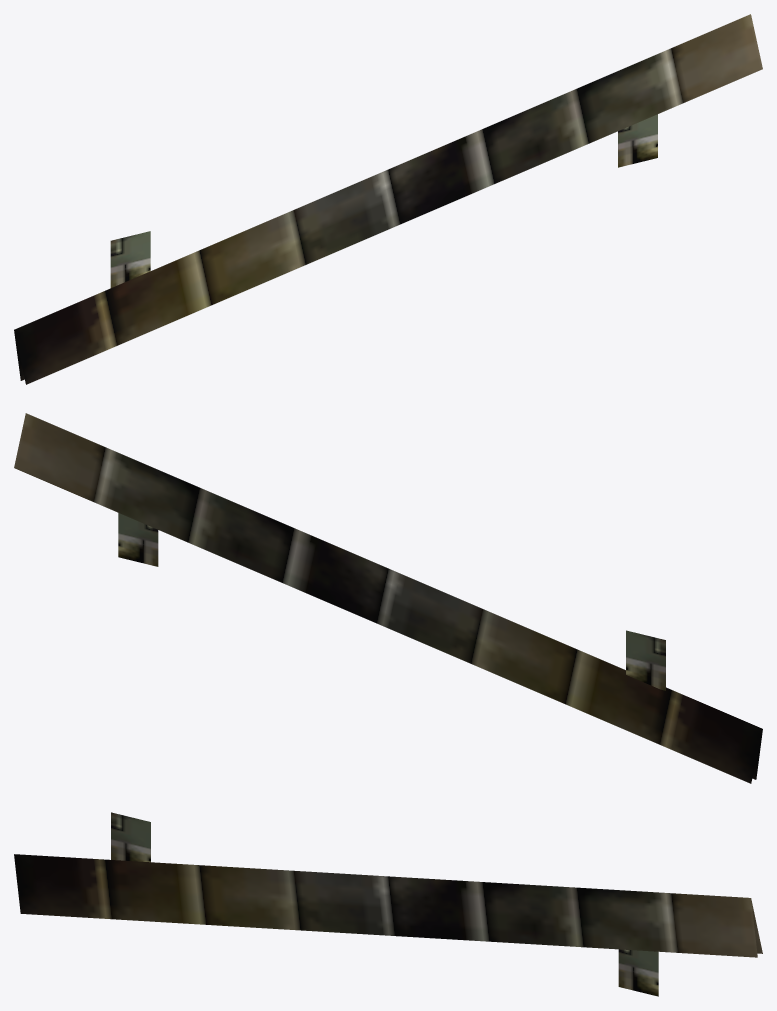
Rendered from China - Armor - Supply Truck - Damage State 2 - NVSSupplyTk_D2.glb.
3 renders of one model, top to bottom at view 1: azimuth 30°, elevation 25°; view 2: azimuth 150°, elevation 25°; view 3: azimuth 330°, elevation 25°, orthographic.
Parts seen in each view (by area): view 1: NVSSUPPLYTK_D2; view 2: NVSSUPPLYTK_D2; view 3: NVSSUPPLYTK_D2.
Boxes of the visible parts, x1,y1,x2,y2 form: NVSSUPPLYTK_D2: [14, 14, 762, 384]; NVSSUPPLYTK_D2: [14, 413, 762, 783]; NVSSUPPLYTK_D2: [14, 812, 762, 996].
Size of the model in its own units: 20.99 by 5.15 by 0.2518.
Materials: 1 (1 with a texture image).
